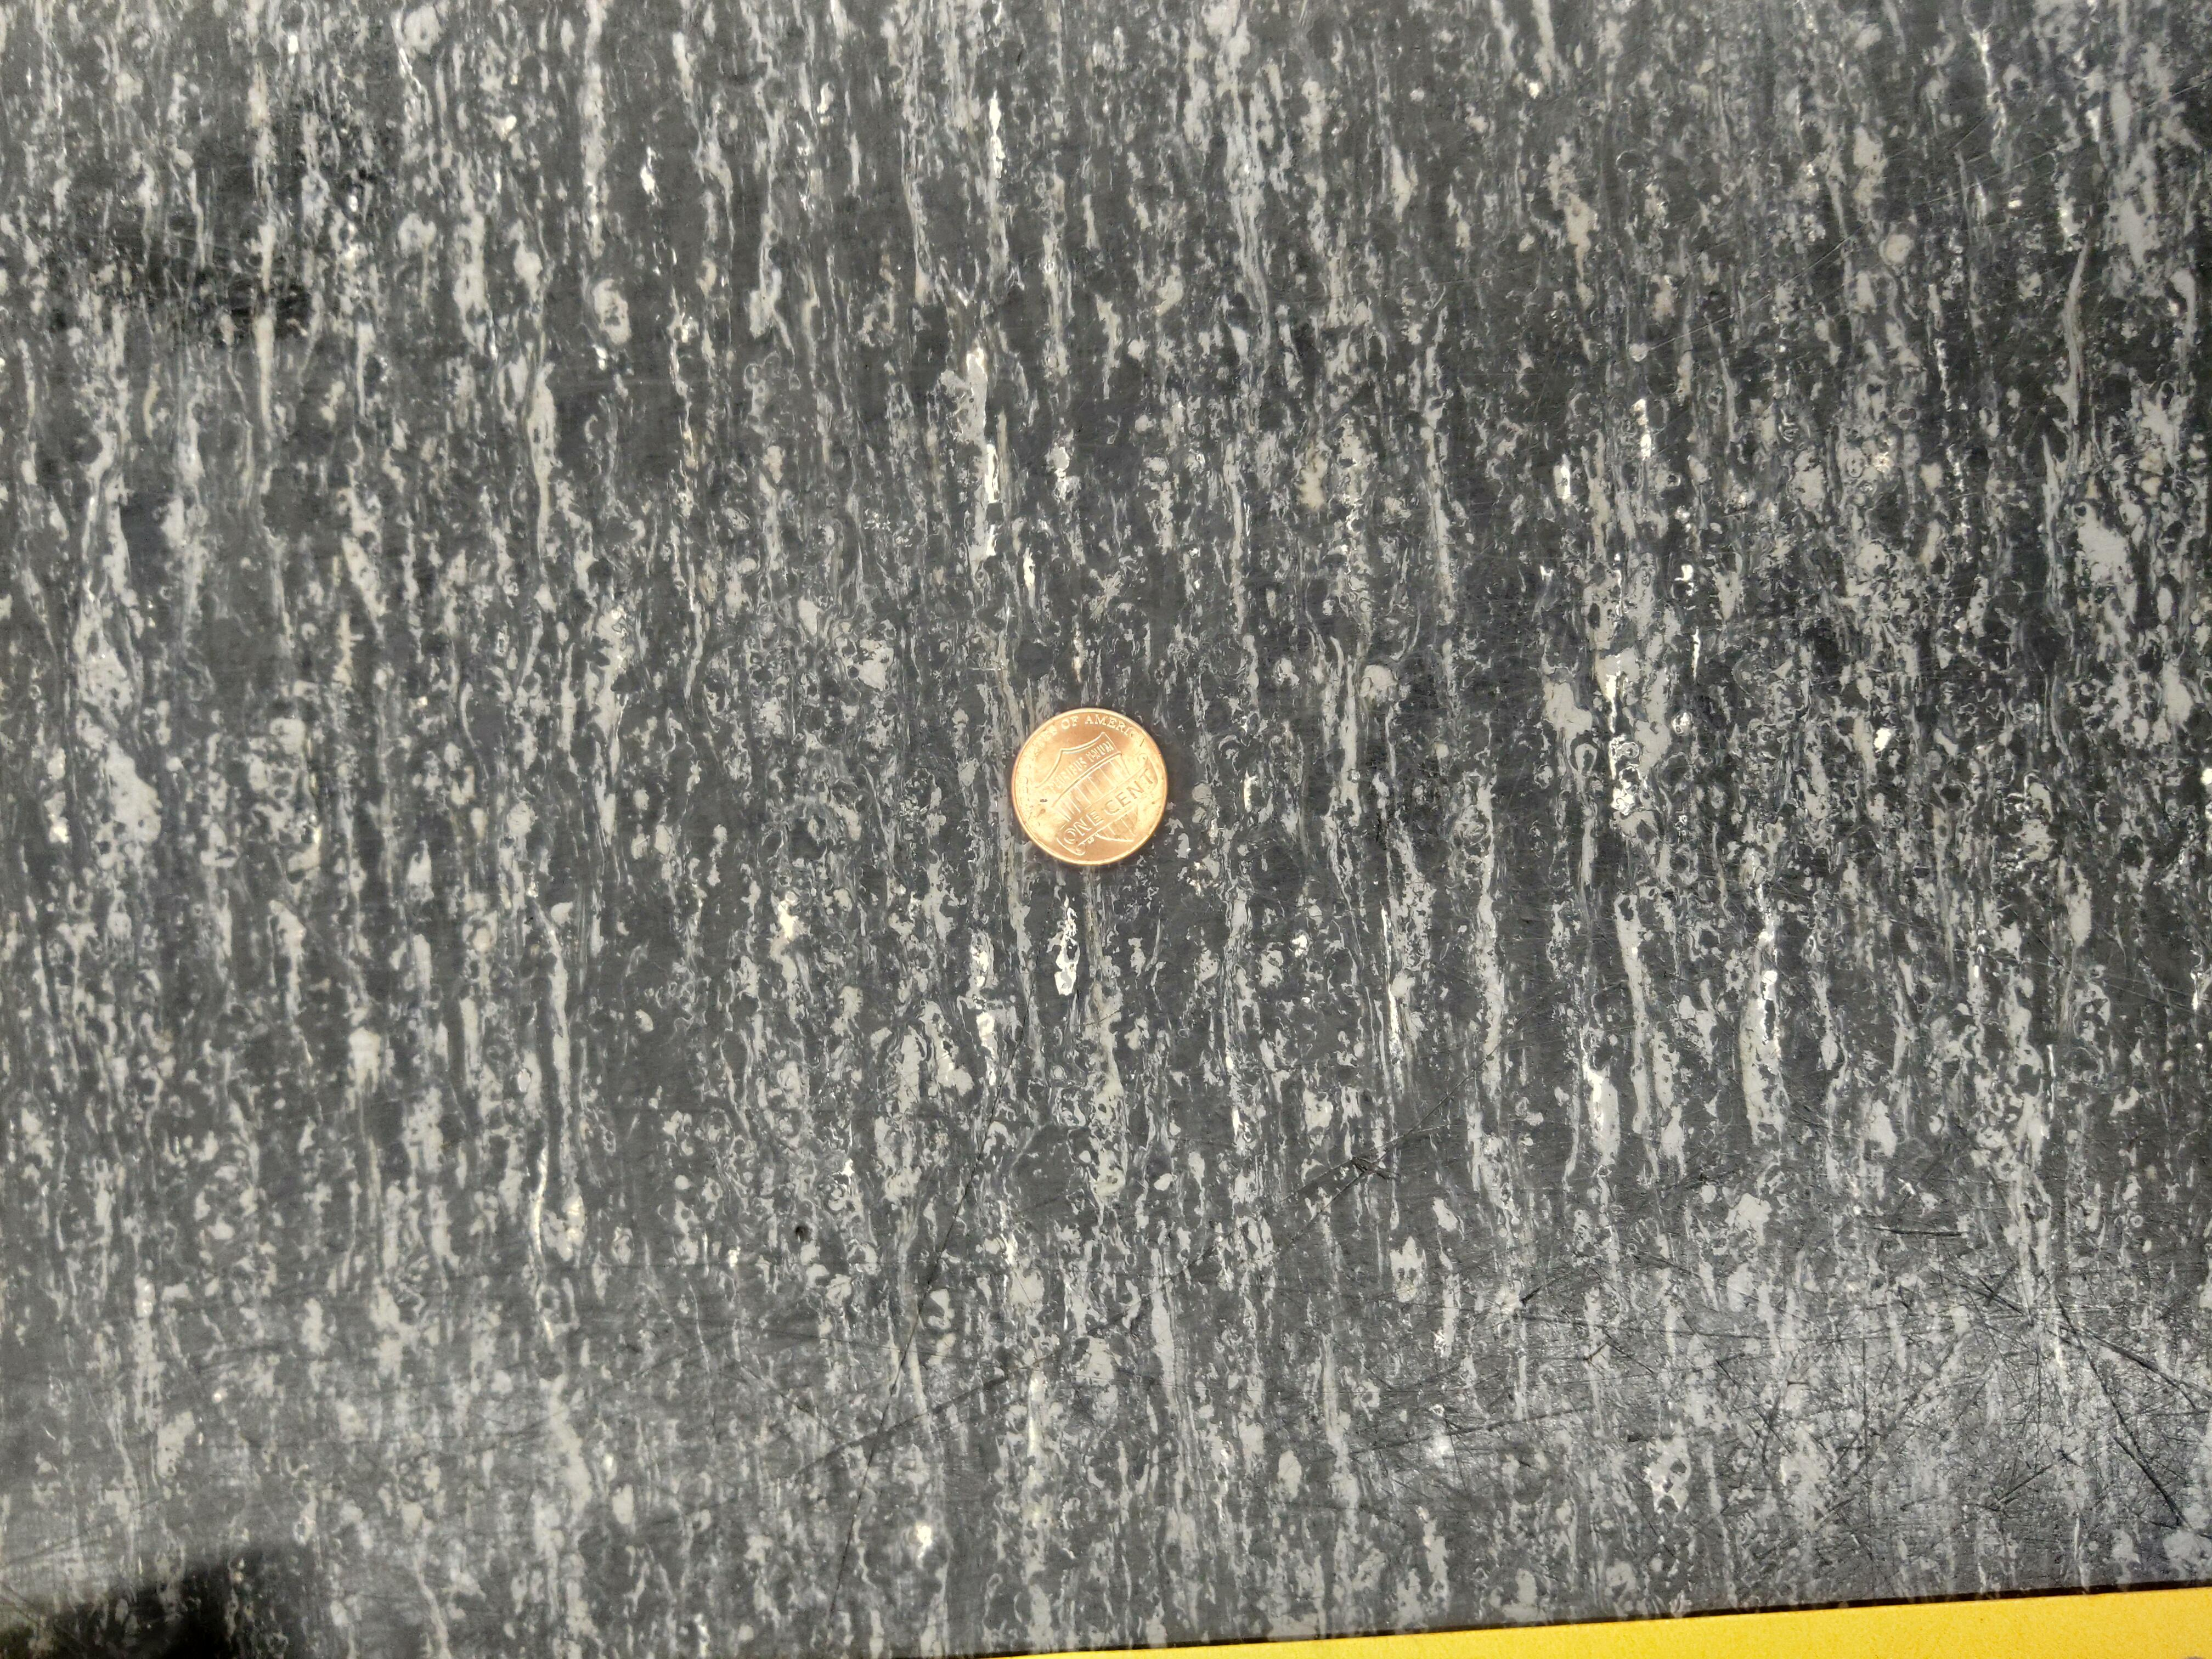Penny: (1010, 704, 1172, 866)
